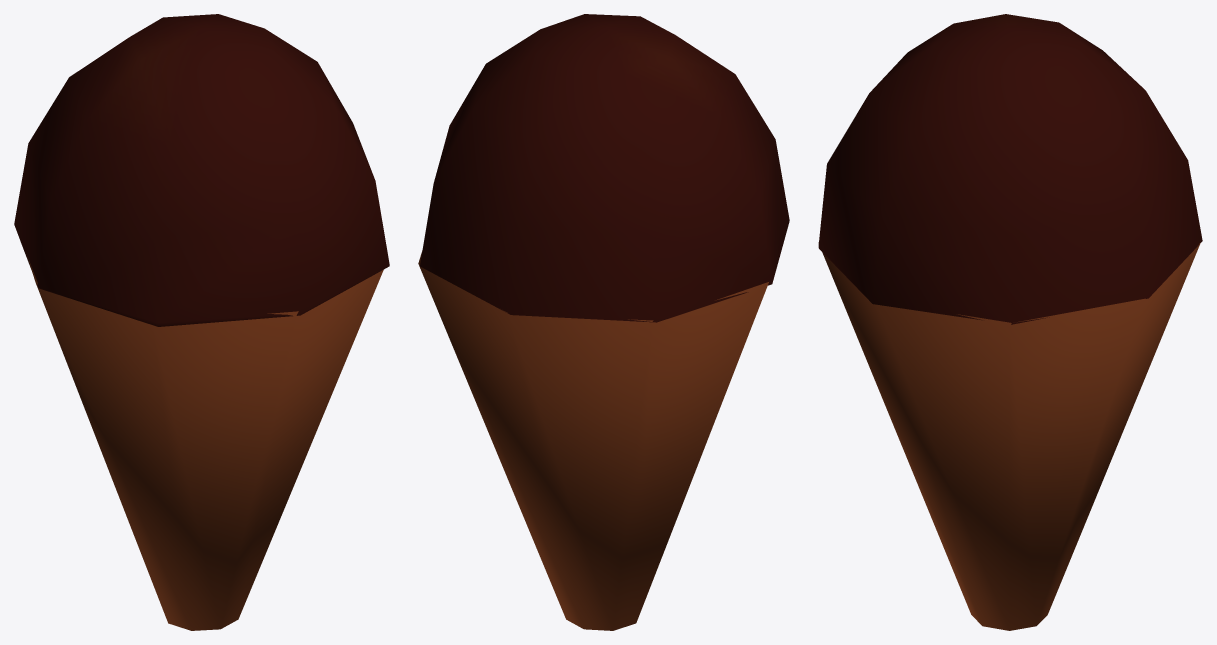
File: BrushTip.fbx
3 views of the same model, side by side, from view 1: azimuth 30°, elevation 25°; view 2: azimuth 150°, elevation 25°; view 3: azimuth 270°, elevation 25° (orthographic).
Parts seen in each view (by area): view 1: Cone; view 2: Cone; view 3: Cone.
Boxes of the visible parts, x1,y1,x2,y2 form: Cone: (14,14,389,630); Cone: (418,14,789,630); Cone: (818,14,1202,630).
Bounding box in the file's own units: 97.82 × 165 × 98.3.
